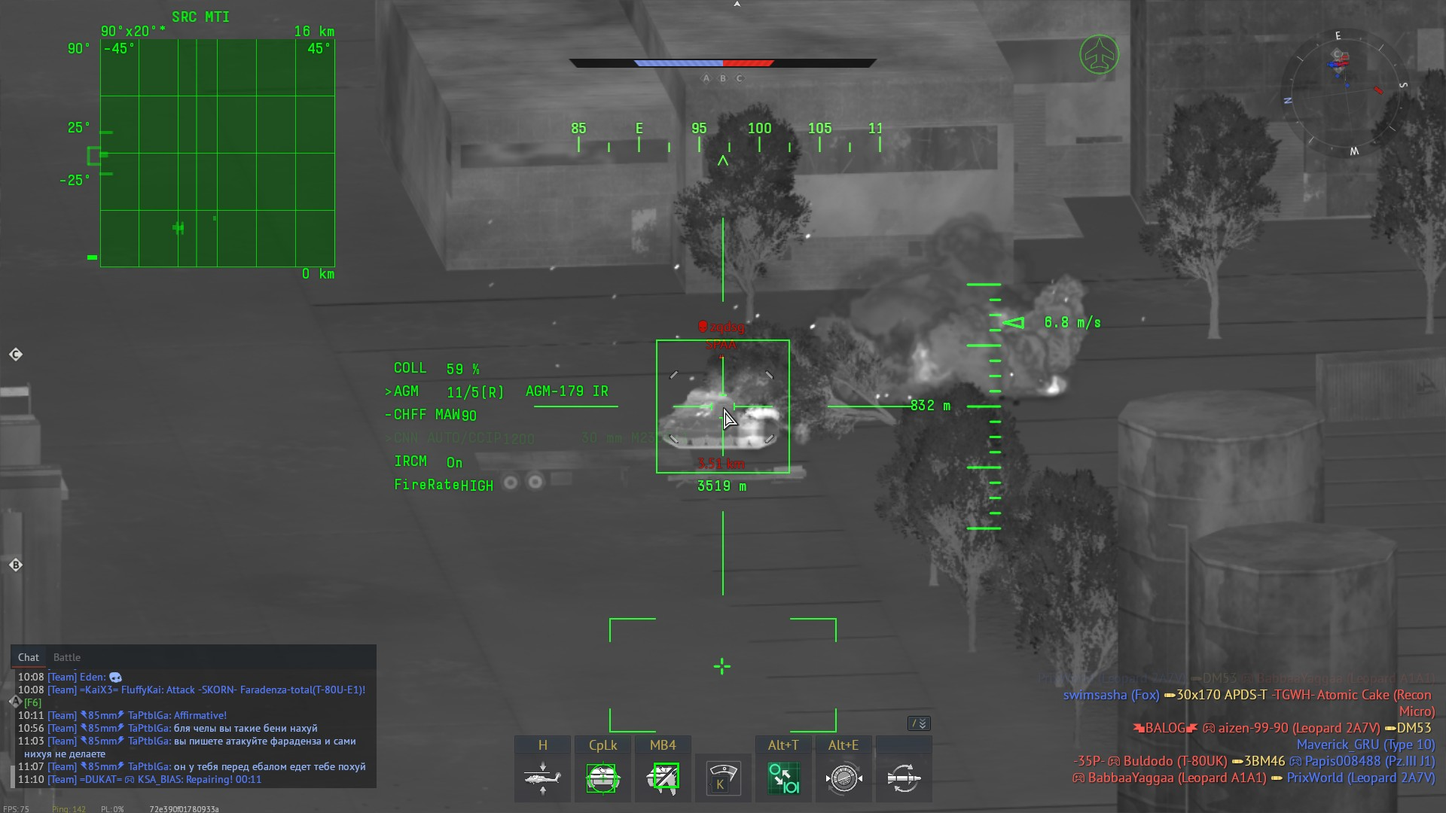spaa_zsu-23: (658, 383, 782, 452)
